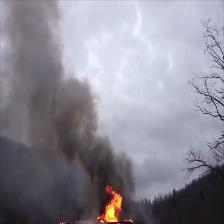fire: (98, 183, 123, 223)
smoke: (11, 6, 64, 102), (54, 104, 96, 157)
